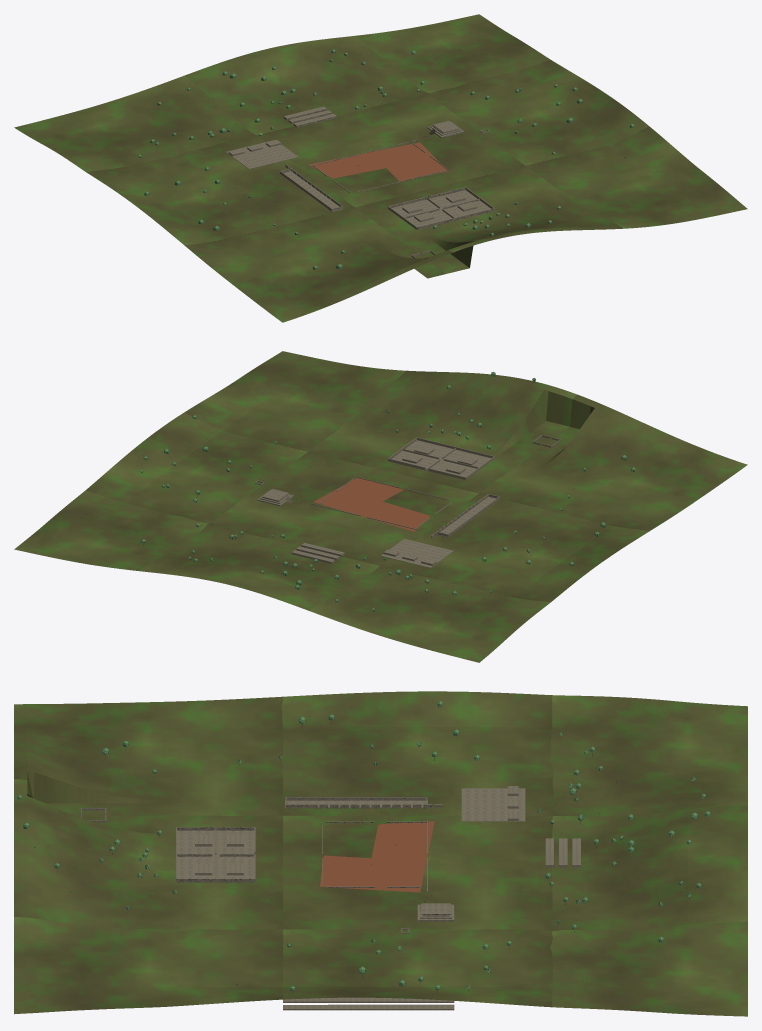
3 renders of one model, top to bottom at view 1: azimuth 30°, elevation 25°; view 2: azimuth 150°, elevation 25°; view 3: azimuth 270°, elevation 25°, orthographic. The views are drawn at different scales.
Parts seen in each view (by area): view 1: GEO-Aypate_LOD1_Terrain, GEO-Aypate_LOD1_City, GEO-Aypate_LOD1_Props; view 2: GEO-Aypate_LOD1_Terrain, GEO-Aypate_LOD1_City, GEO-Aypate_LOD1_Props; view 3: GEO-Aypate_LOD1_Terrain, GEO-Aypate_LOD1_City, GEO-Aypate_LOD1_Props.
Boxes of the visible parts, x1,y1,x2,y2 form: GEO-Aypate_LOD1_Terrain: [14, 14, 747, 322]; GEO-Aypate_LOD1_City: [226, 106, 494, 259]; GEO-Aypate_LOD1_Props: [138, 49, 634, 271]; GEO-Aypate_LOD1_Terrain: [14, 351, 747, 662]; GEO-Aypate_LOD1_City: [255, 435, 560, 568]; GEO-Aypate_LOD1_Props: [140, 371, 635, 611]; GEO-Aypate_LOD1_Terrain: [14, 691, 747, 1016]; GEO-Aypate_LOD1_City: [81, 786, 580, 1009]; GEO-Aypate_LOD1_Props: [17, 701, 710, 994].
Size of the model in its own units: 600 by 49.17 by 600.
9 materials, 5 textured.
